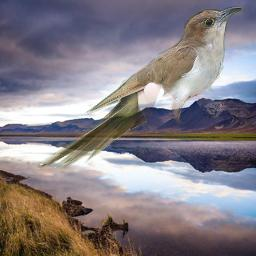Cuckoo: (38, 6, 243, 170)
